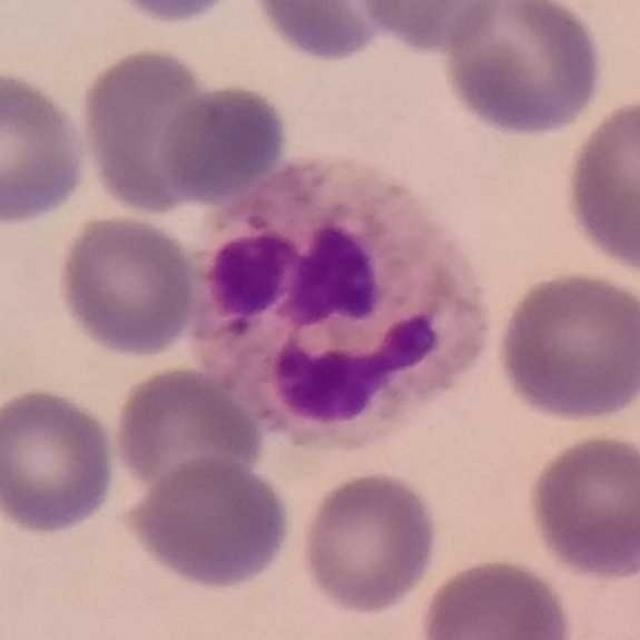Neutrophil: (182, 150, 498, 468)
RBC: (74, 43, 225, 217), (434, 0, 608, 139), (121, 453, 295, 592), (491, 266, 640, 425), (52, 210, 202, 362), (295, 466, 444, 617), (108, 362, 268, 502), (0, 382, 122, 537), (522, 429, 640, 583), (156, 82, 292, 204), (0, 63, 92, 229), (560, 90, 640, 278), (415, 553, 577, 640), (245, 0, 409, 67), (348, 0, 513, 55), (99, 0, 248, 28)
